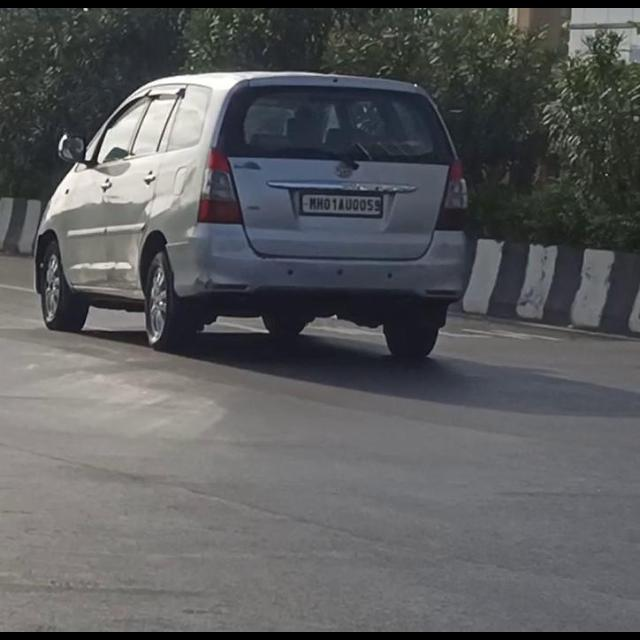vehicles: (37, 62, 471, 364)
